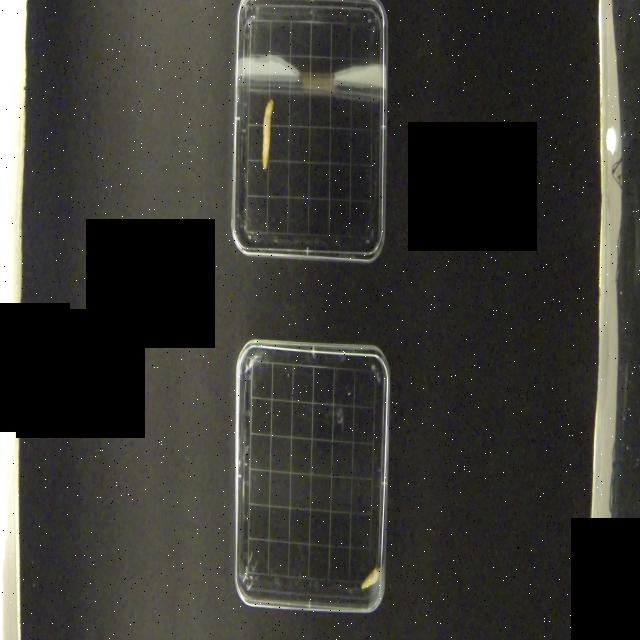larva: (260, 96, 278, 173), (360, 562, 380, 593)
